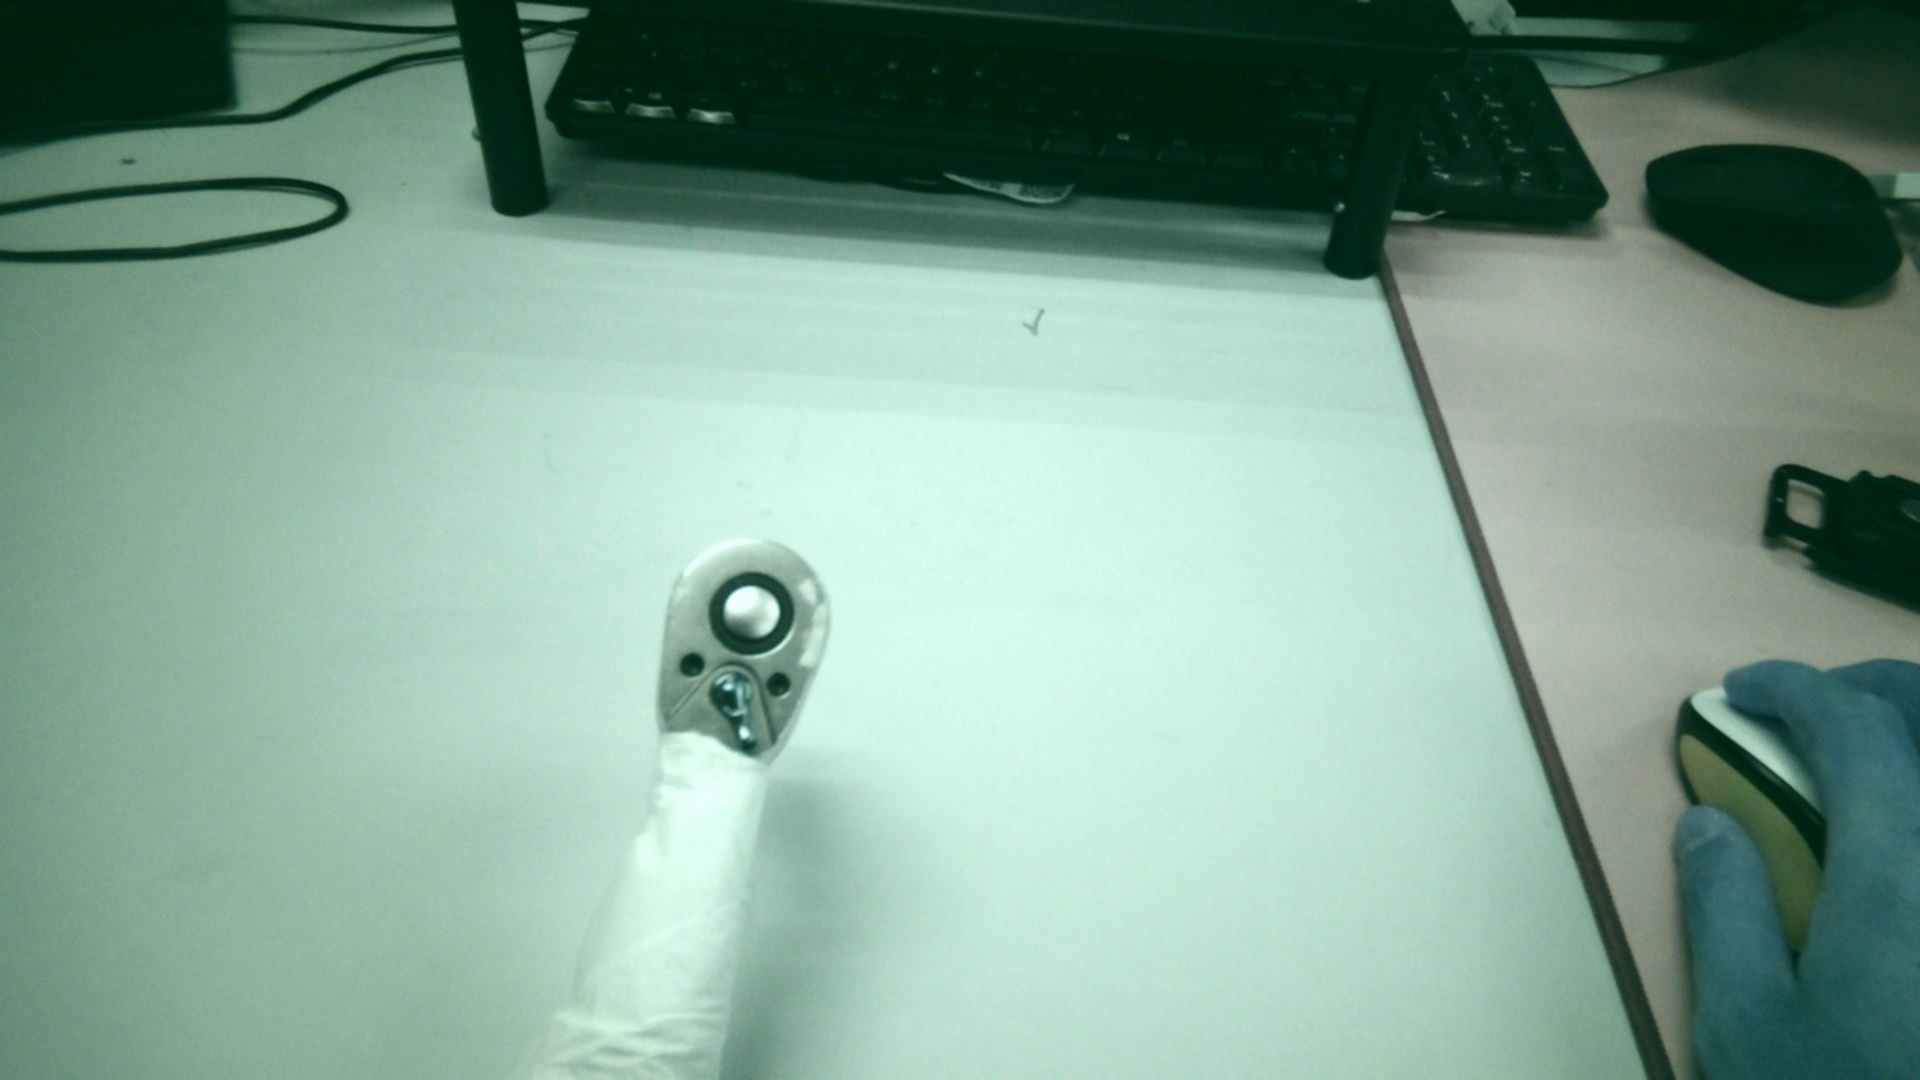wrench: (709, 568, 796, 655)
